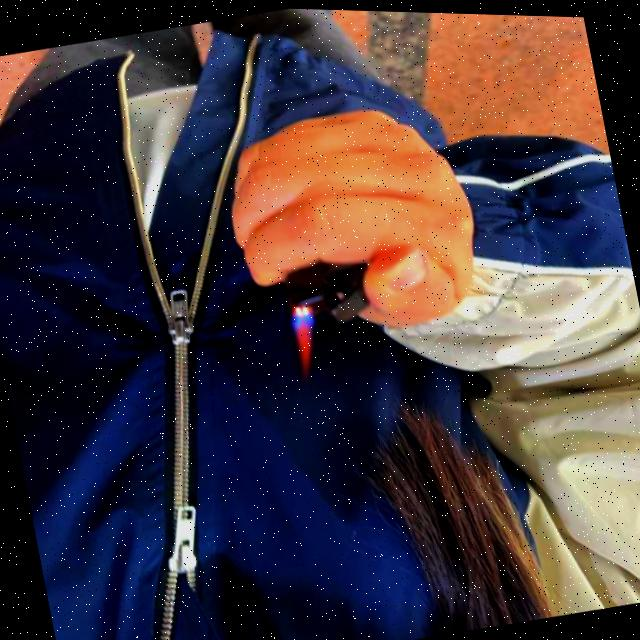Fire: (288, 310, 322, 375)
